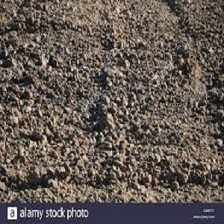loamy_soil: (19, 17, 207, 189)
